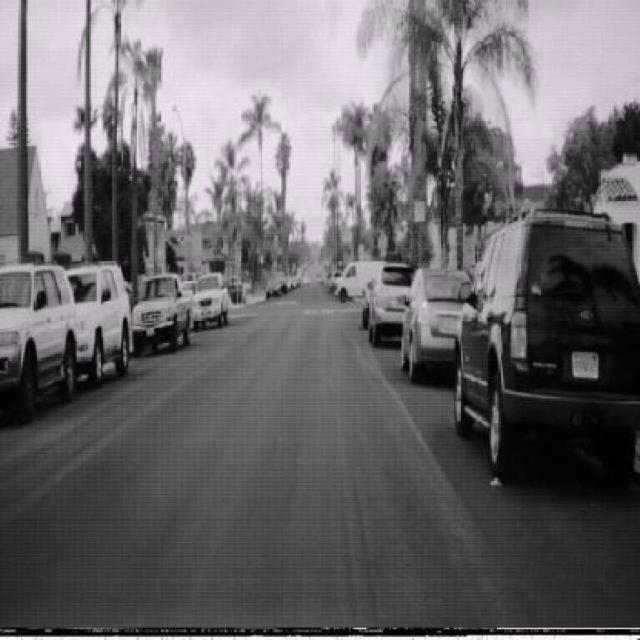stop: (377, 230, 389, 252)
